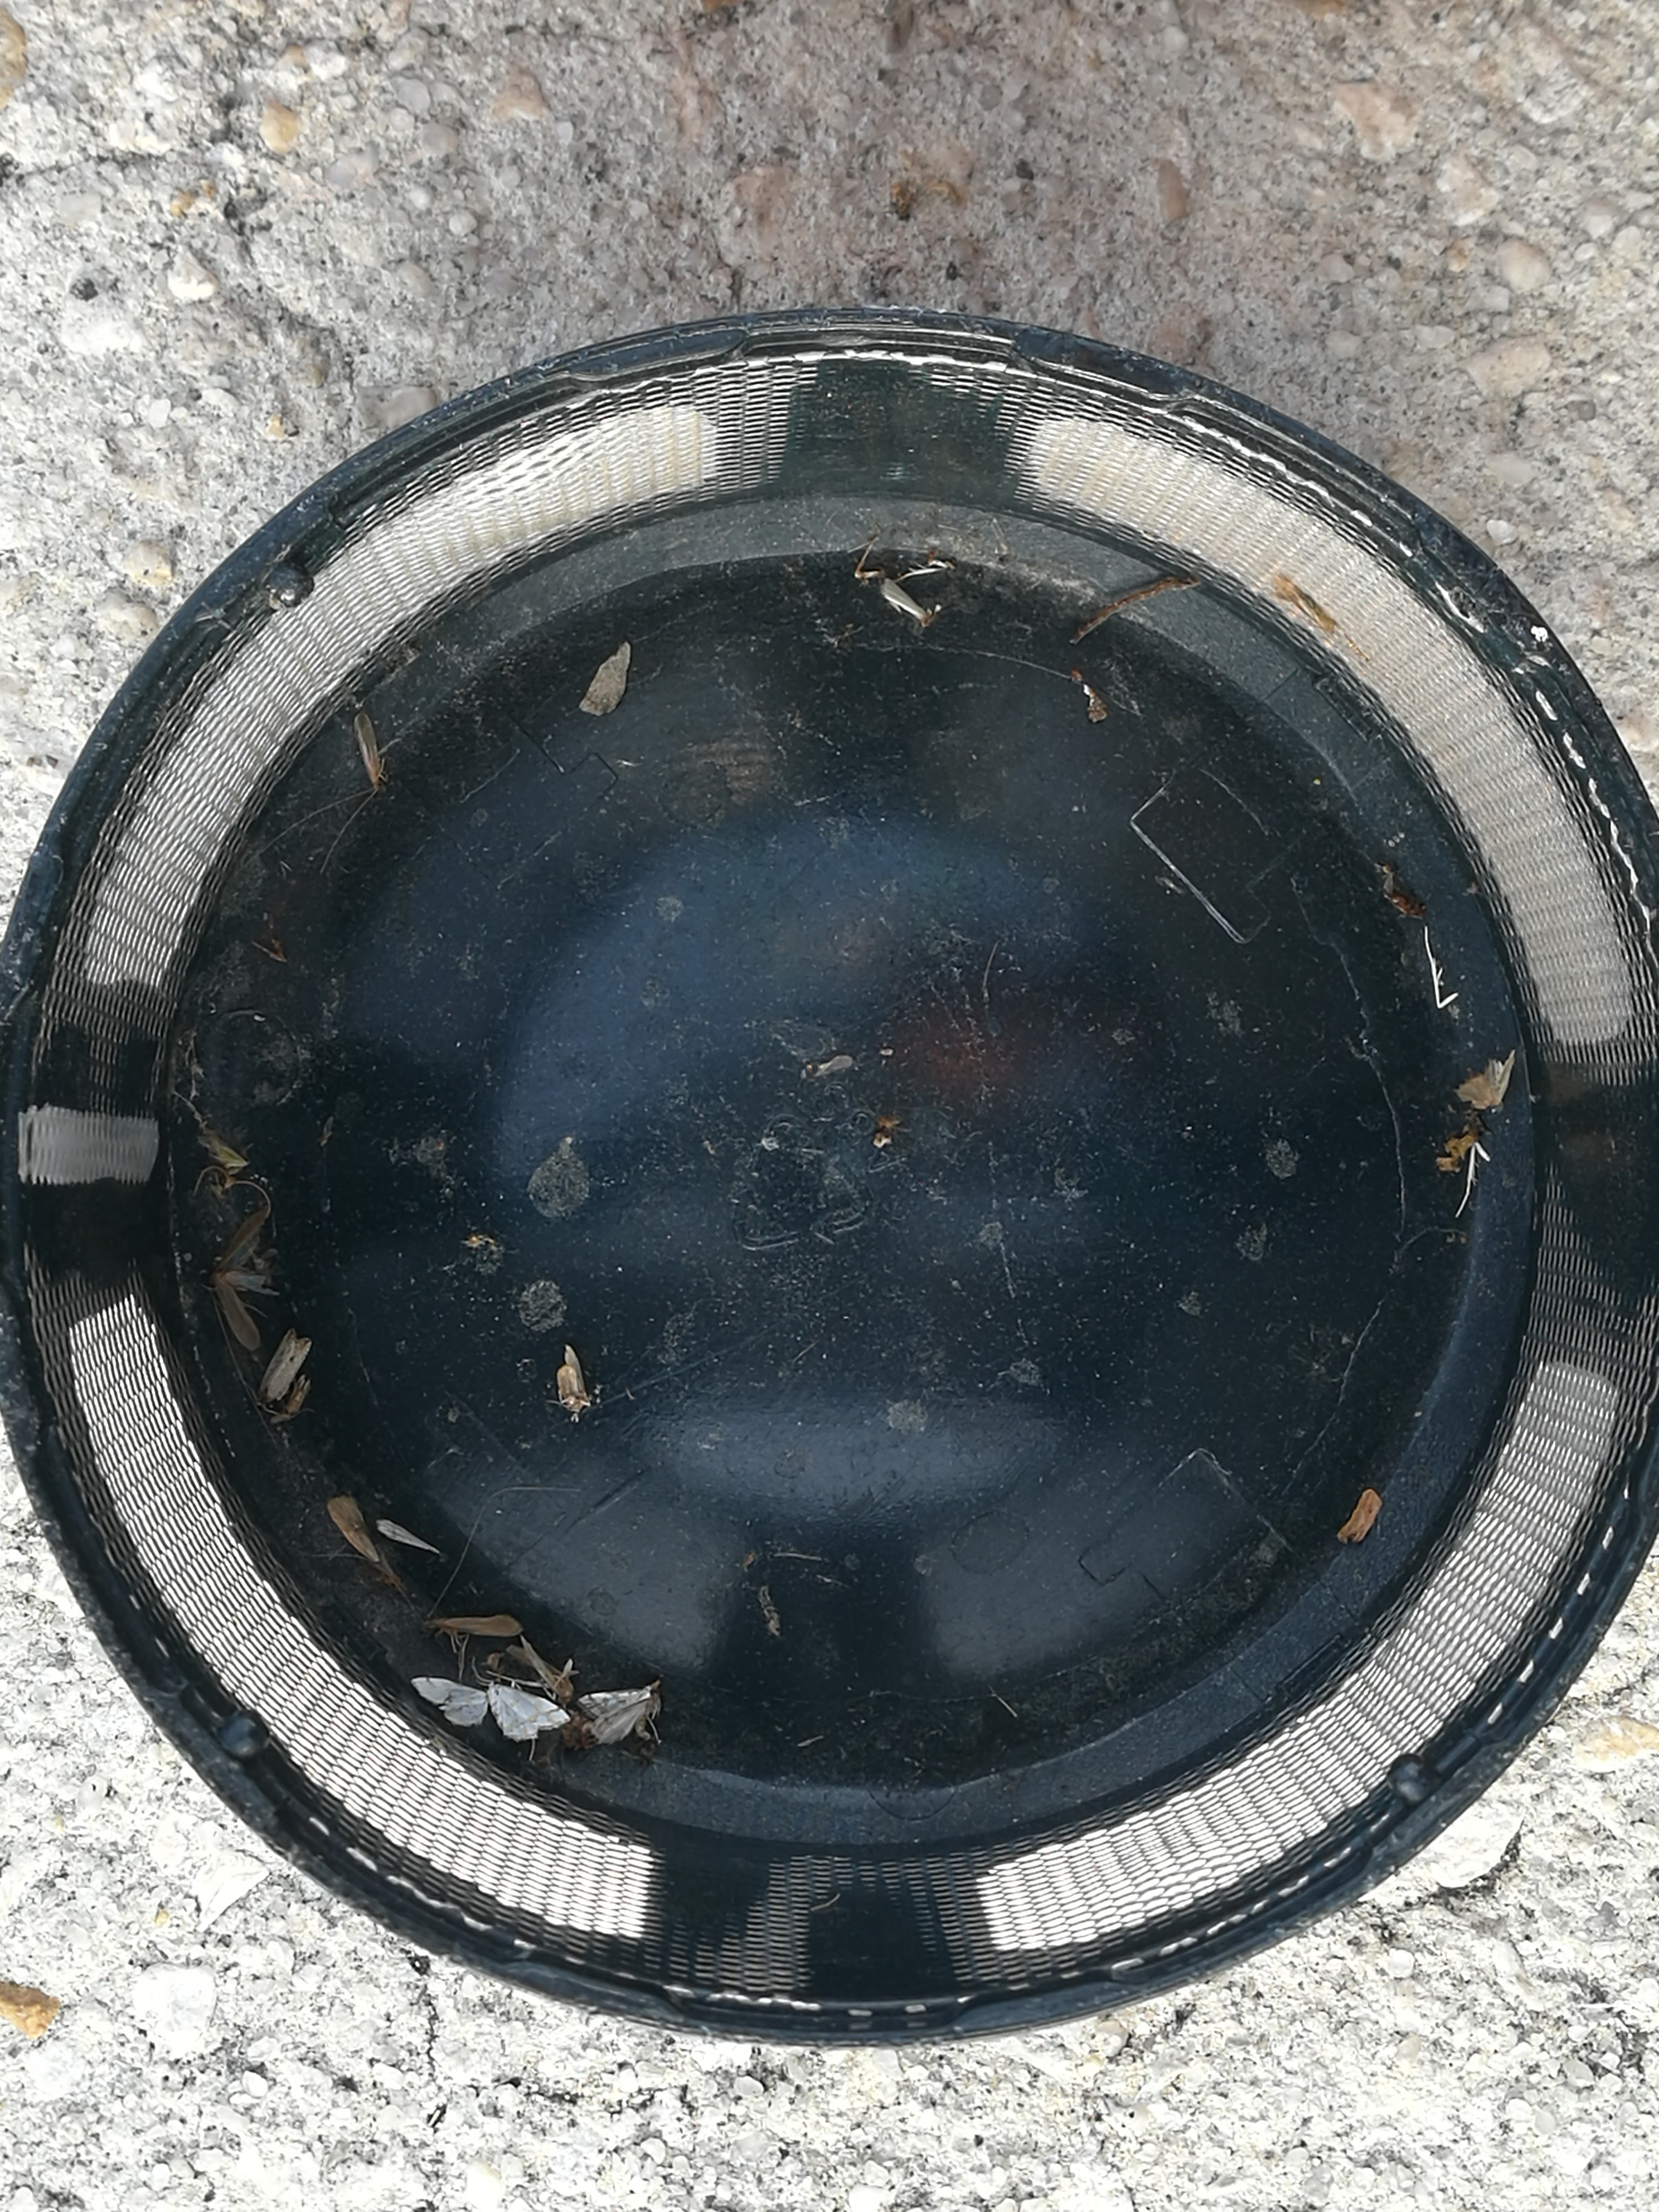mosquito: (258, 1327, 314, 1404), (518, 1646, 572, 1703), (355, 716, 383, 791), (434, 1616, 521, 1635)
moth: (211, 1212, 267, 1352)
